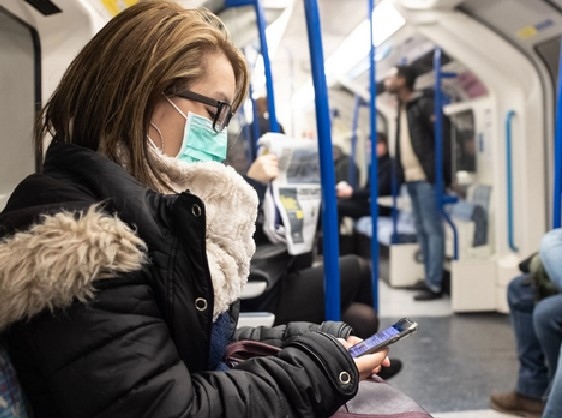face_with_mask: (105, 3, 245, 179)
